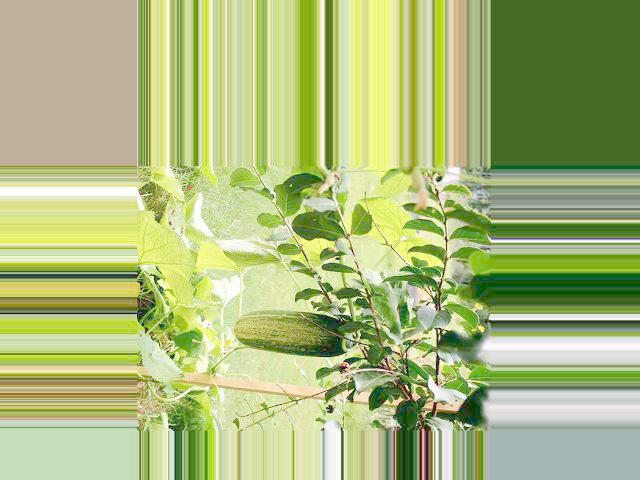cucumber: (233, 311, 359, 358)
